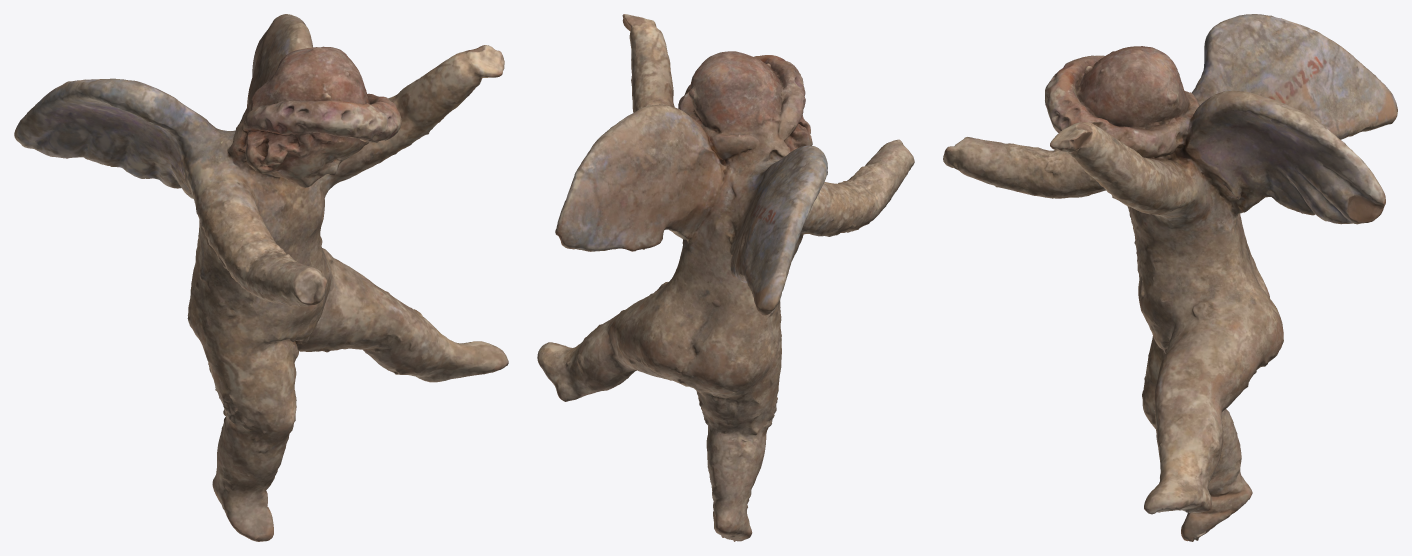
The model's file is preview.glb.
3 views of the same model, side by side, from view 1: azimuth 30°, elevation 25°; view 2: azimuth 150°, elevation 25°; view 3: azimuth 270°, elevation 25° (orthographic). The views are drawn at different scales.
Parts seen in each view (by area): view 1: _1_21_31_ErosCupid_n3d; view 2: _1_21_31_ErosCupid_n3d; view 3: _1_21_31_ErosCupid_n3d.
Boxes of the visible parts, box(x1,y1,x2,y2) form: _1_21_31_ErosCupid_n3d: box(14, 14, 508, 541); _1_21_31_ErosCupid_n3d: box(537, 14, 914, 541); _1_21_31_ErosCupid_n3d: box(943, 14, 1397, 541).
Bounding box in the file's own units: 0.0513 × 0.066 × 0.054.
Materials: 1 (1 with a texture image).
